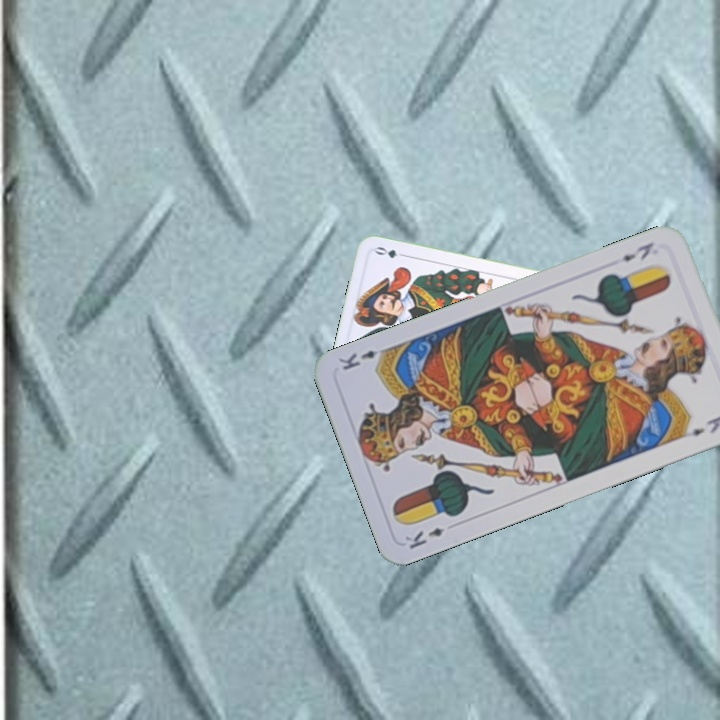EK: (401, 523, 447, 552), (618, 237, 657, 264)
